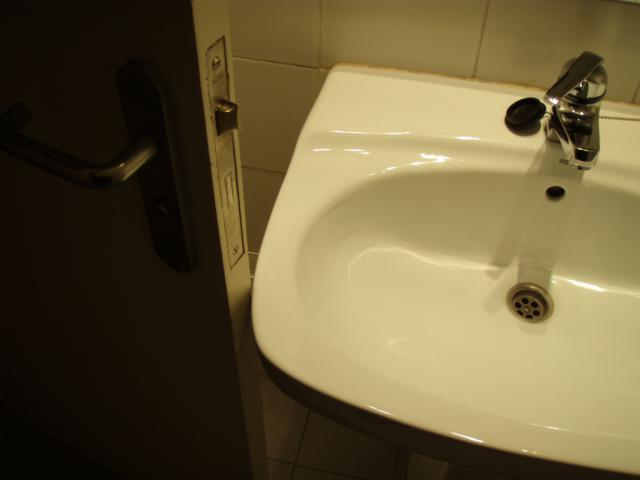Door-handle: (0, 61, 199, 276)
